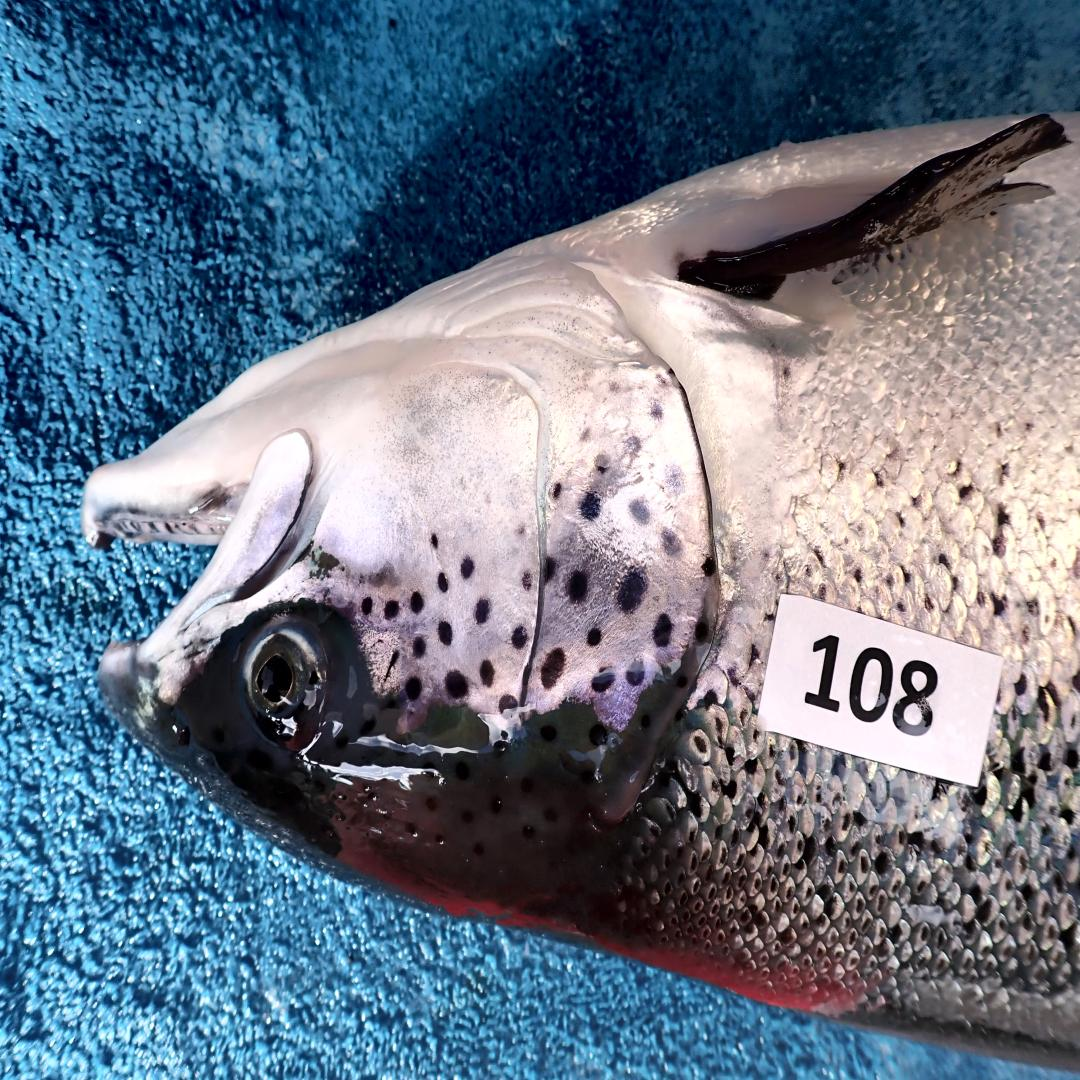spot: (616, 568, 648, 613), (540, 647, 565, 689), (664, 464, 686, 498), (652, 613, 673, 647), (692, 613, 715, 644), (567, 571, 589, 602), (445, 669, 468, 698), (580, 492, 601, 520), (662, 529, 681, 557), (591, 669, 614, 692), (626, 661, 645, 686), (384, 650, 399, 681), (629, 501, 650, 523), (500, 695, 519, 719), (510, 624, 527, 650), (479, 661, 494, 686), (595, 453, 612, 475), (405, 678, 422, 700), (475, 599, 489, 624), (650, 397, 664, 422), (624, 436, 641, 456), (605, 374, 622, 394), (439, 622, 454, 644), (460, 557, 475, 579), (544, 557, 557, 582), (384, 599, 399, 619), (586, 627, 601, 647), (702, 557, 717, 577), (413, 636, 426, 658), (411, 591, 424, 613), (578, 425, 593, 444), (361, 596, 373, 616), (521, 571, 532, 591), (437, 574, 447, 591), (430, 532, 439, 548), (553, 481, 561, 498), (517, 526, 529, 534)
